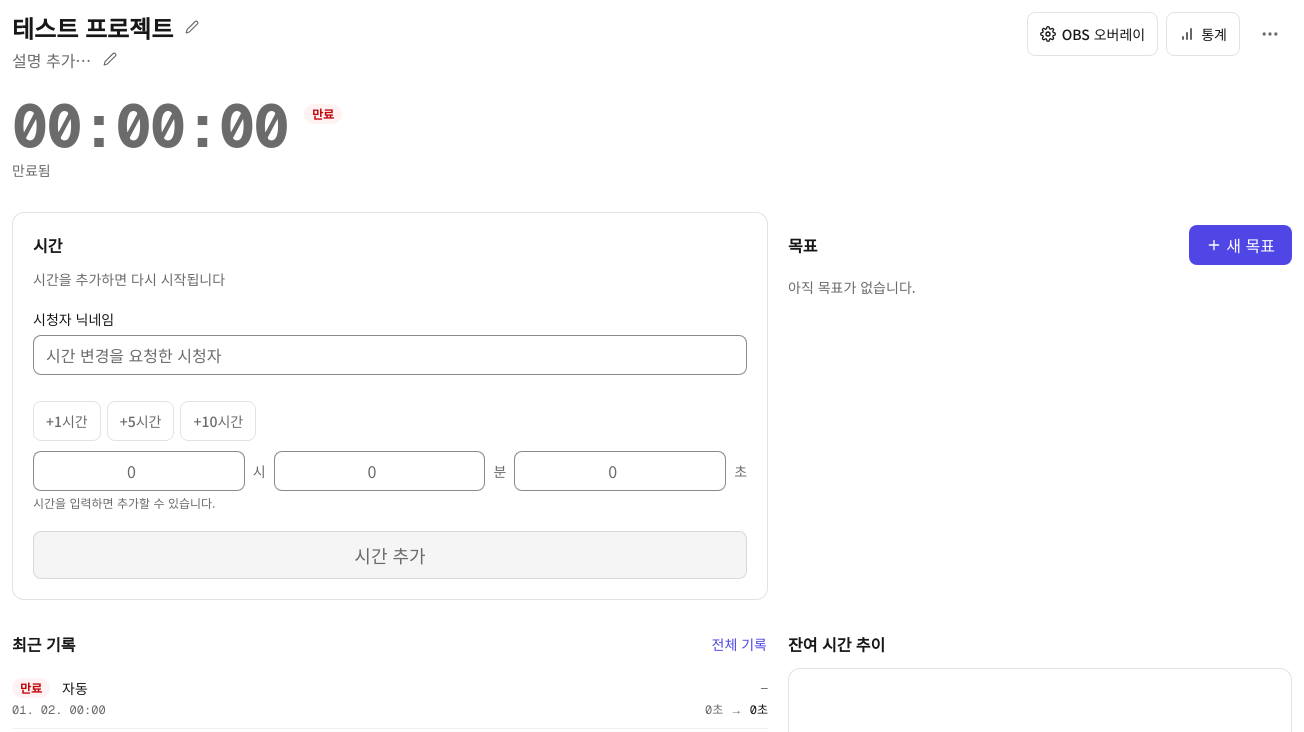
프로젝트 콘솔 › 더보기 메뉴는 결과 기준으로 '타이머 초기화(목표 유지)'와 '프로젝트 삭제'를 보인다
Click the button named "더보기".
click(1270, 34)  # box top-left (1248, 12), bottom-right (1292, 56)
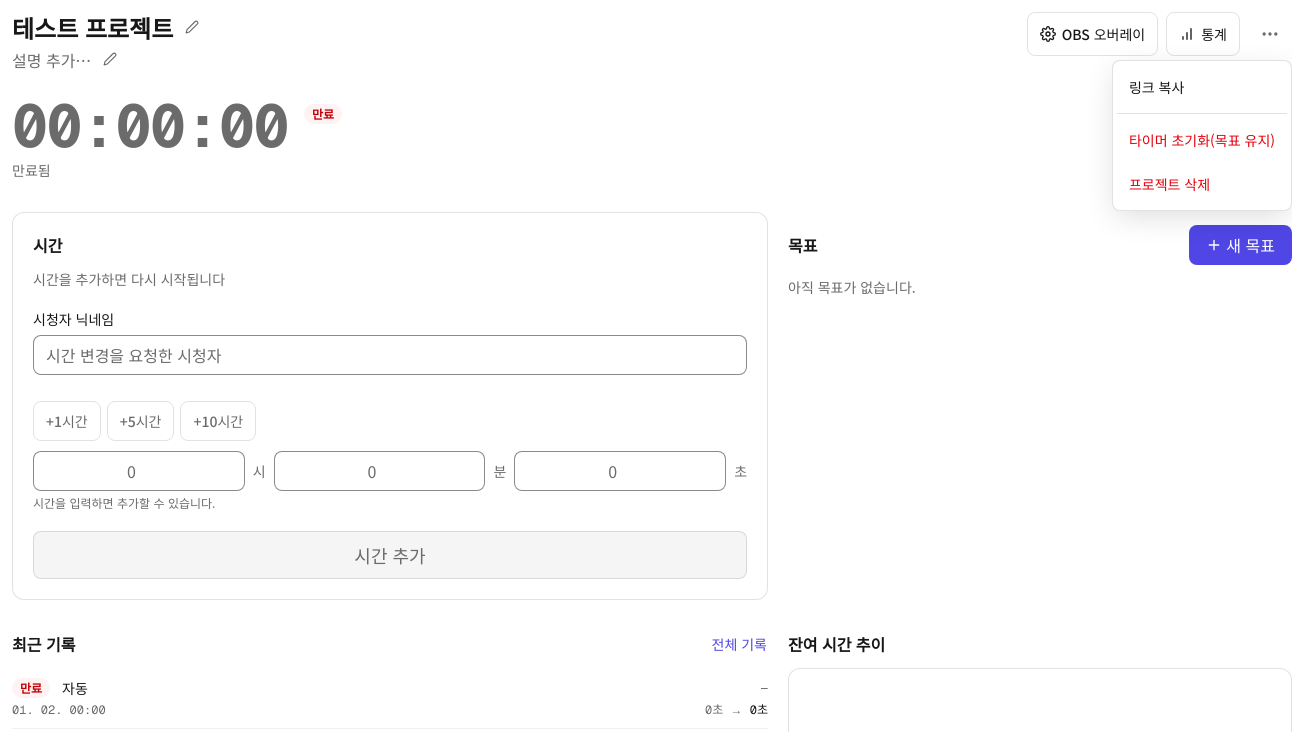
expect the button "타이머 초기화(목표 유지)" is shown: met, box top-left (1117, 118), bottom-right (1287, 162)
expect the button "프로젝트 삭제" is shown: met, box top-left (1117, 162), bottom-right (1287, 206)
